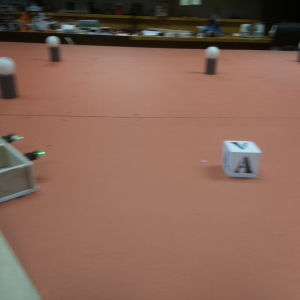obstacle: (1, 53, 21, 102), (42, 34, 65, 65), (204, 44, 218, 77)
side: (1, 128, 41, 205)
